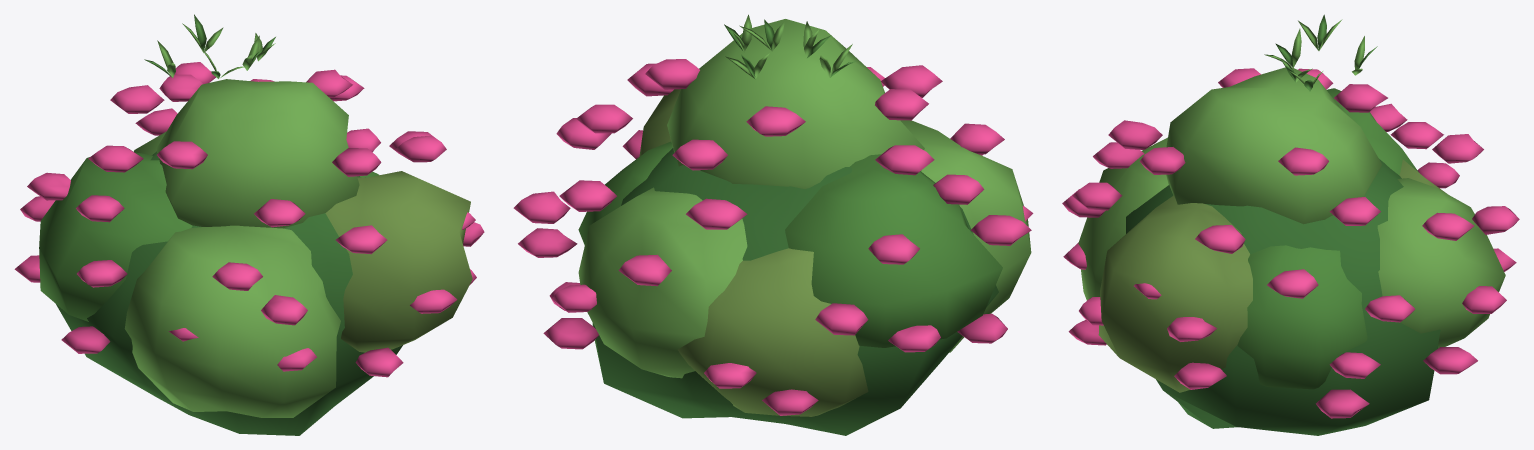
File: azalea.glb
3 renders of one model, left to right at view 1: azimuth 30°, elevation 25°; view 2: azimuth 150°, elevation 25°; view 3: azimuth 270°, elevation 25°, orthographic. The views are drawn at different scales.
Visible parts, largest first — view 1: azalea, sprigs; view 2: azalea, sprigs; view 3: azalea, sprigs.
Boxes of the visible parts, <box> form: azalea: <box>14,62,484,435</box>; sprigs: <box>144,14,275,78</box>; azalea: <box>513,19,1033,435</box>; sprigs: <box>724,14,855,79</box>; azalea: <box>1062,67,1519,435</box>; sprigs: <box>1264,14,1377,91</box>.
Size of the model in its own units: 1.16 by 1.01 by 1.15.
